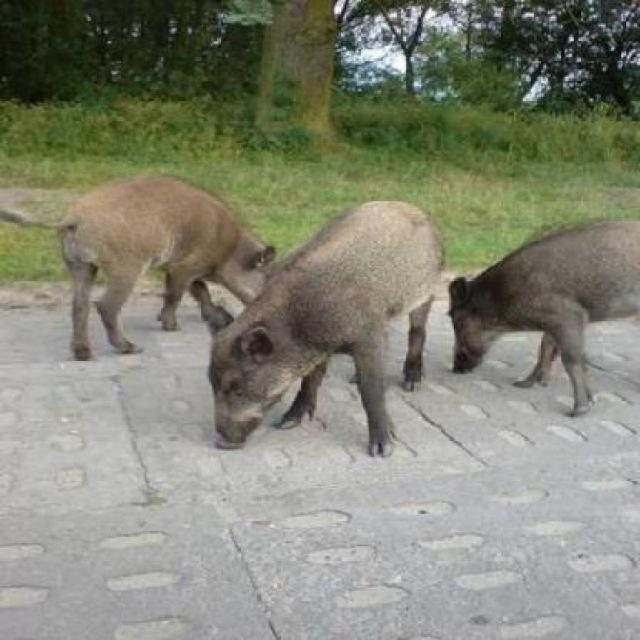WildBoar: (180, 183, 485, 480), (442, 194, 640, 460), (33, 144, 287, 318)
